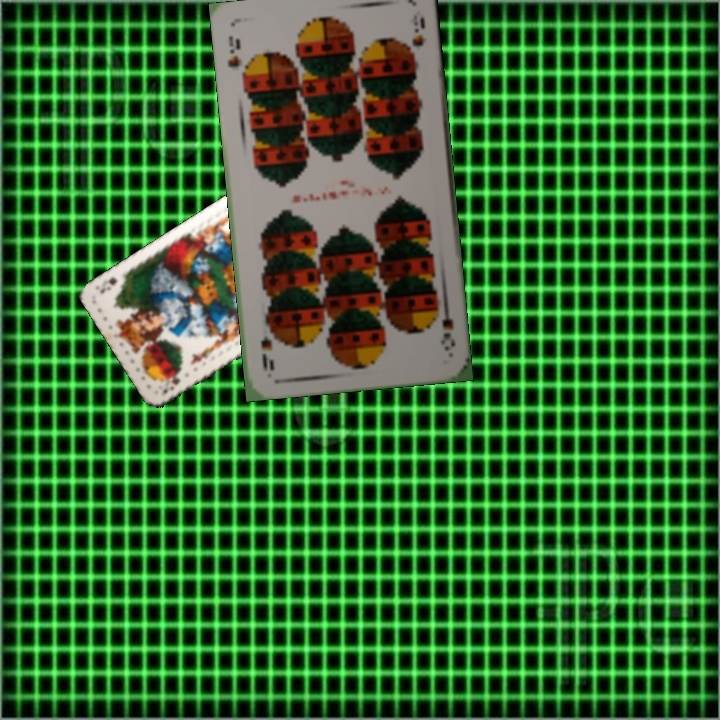S9: (436, 297, 458, 353), (223, 32, 244, 70)
SK: (157, 373, 182, 397)
